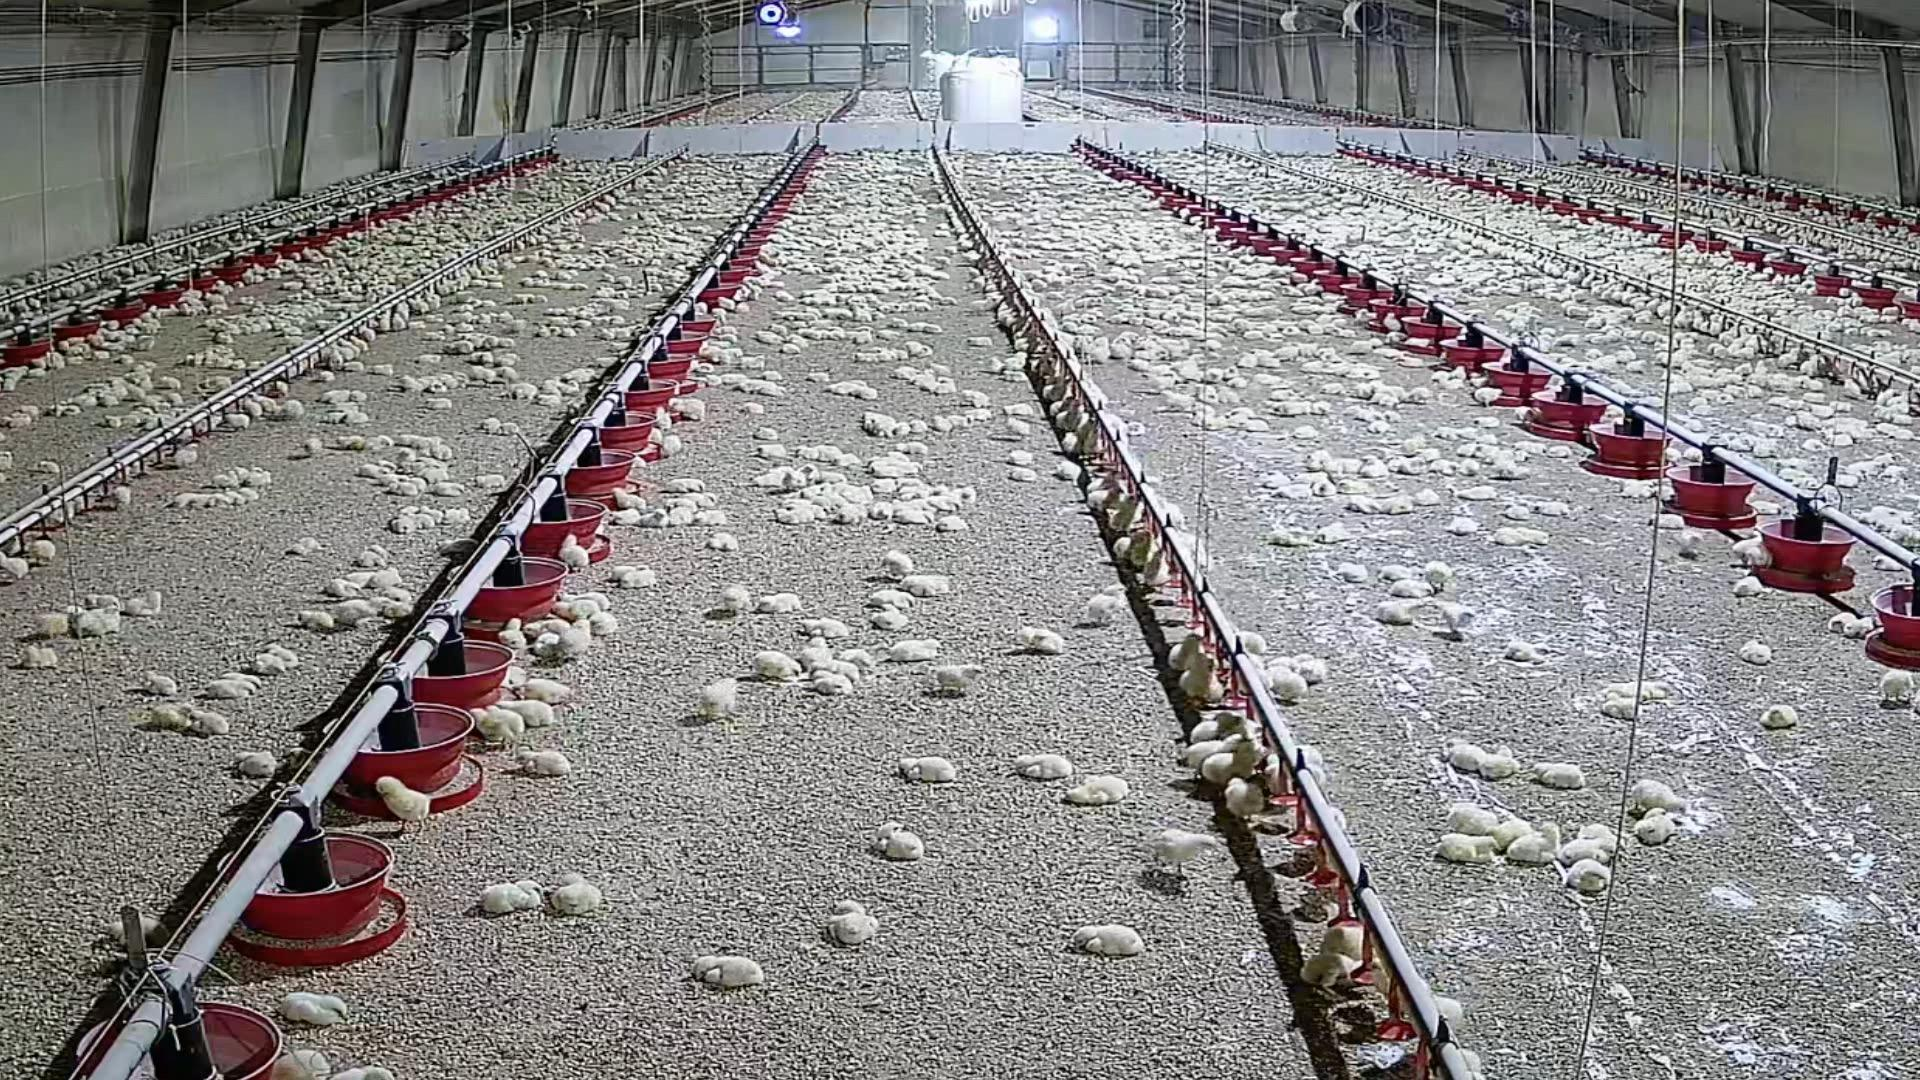poussin: (375, 770, 434, 832), (1146, 829, 1217, 873), (281, 988, 357, 1026), (1176, 659, 1229, 709), (1179, 733, 1247, 771), (823, 899, 877, 947), (1205, 737, 1265, 779), (1507, 823, 1567, 865), (1327, 918, 1386, 959), (1069, 924, 1146, 956), (690, 955, 765, 986), (1222, 775, 1266, 829), (1630, 774, 1691, 812), (483, 877, 545, 913), (1304, 952, 1358, 992), (553, 873, 603, 914), (1412, 989, 1466, 1026), (266, 1051, 335, 1080), (1259, 744, 1331, 771), (471, 707, 522, 745), (1265, 764, 1329, 794), (874, 824, 924, 862), (1065, 777, 1134, 804), (1013, 752, 1072, 782), (1439, 833, 1498, 862), (899, 753, 956, 782), (1876, 665, 1919, 703), (1526, 764, 1586, 790), (703, 676, 741, 717), (924, 669, 986, 694), (1191, 713, 1255, 737), (516, 752, 574, 778), (1451, 799, 1503, 828), (1089, 584, 1127, 624), (748, 646, 799, 675), (1552, 843, 1622, 864), (497, 699, 559, 723), (1484, 744, 1526, 778), (109, 923, 170, 947), (1019, 622, 1068, 651), (807, 670, 857, 698), (1374, 597, 1424, 625), (1640, 808, 1677, 845), (1222, 625, 1274, 651), (517, 678, 580, 699), (1490, 814, 1530, 847), (1605, 691, 1644, 724), (562, 621, 593, 662), (330, 1063, 405, 1080), (289, 745, 335, 773), (1171, 630, 1200, 674), (78, 608, 123, 636), (1447, 738, 1484, 771), (140, 666, 179, 696), (326, 603, 386, 622), (295, 608, 338, 636), (1265, 669, 1303, 699), (22, 644, 66, 670), (798, 636, 833, 666), (876, 603, 913, 632), (1572, 866, 1609, 895), (603, 560, 647, 584), (34, 612, 73, 640), (802, 618, 852, 640), (889, 640, 945, 658), (1035, 372, 1069, 402), (1763, 703, 1800, 731), (810, 661, 861, 680), (262, 644, 301, 670), (563, 533, 589, 571), (550, 603, 597, 624), (758, 592, 800, 616), (1509, 644, 1556, 665), (21, 535, 55, 564), (204, 682, 255, 702), (559, 588, 612, 607), (236, 752, 277, 775), (716, 587, 754, 612), (190, 711, 229, 735), (621, 568, 657, 595), (1443, 607, 1478, 633), (1375, 562, 1429, 579), (903, 578, 953, 596), (868, 588, 914, 608), (1386, 582, 1439, 599), (1737, 531, 1763, 566), (1279, 654, 1336, 670), (1735, 640, 1775, 662), (219, 673, 266, 691), (1335, 560, 1371, 584), (127, 592, 160, 618), (1431, 560, 1457, 593), (1468, 386, 1509, 407), (505, 612, 527, 650), (150, 705, 193, 725), (1577, 823, 1619, 843), (1044, 396, 1079, 419), (608, 487, 646, 508), (1671, 534, 1700, 562), (1065, 423, 1096, 450), (252, 654, 287, 676), (0, 554, 33, 578), (1085, 487, 1122, 508), (840, 650, 881, 669), (1320, 521, 1352, 545), (469, 469, 513, 487), (1278, 529, 1315, 549), (1846, 617, 1883, 637), (998, 415, 1030, 438), (1406, 489, 1444, 508), (1873, 555, 1911, 574), (1647, 513, 1688, 530), (884, 554, 910, 580), (531, 633, 559, 658), (324, 583, 364, 600), (1825, 612, 1857, 633), (593, 611, 620, 636), (1385, 497, 1420, 516), (1735, 576, 1763, 600), (704, 530, 737, 550), (524, 618, 568, 633), (794, 446, 839, 460), (284, 534, 320, 551), (603, 509, 640, 526), (836, 505, 868, 525), (1055, 405, 1081, 429), (684, 495, 720, 512), (1490, 527, 1523, 546), (1449, 485, 1495, 498), (666, 481, 707, 496), (274, 398, 309, 415), (372, 567, 404, 585), (666, 497, 698, 516), (1519, 530, 1551, 549), (1395, 355, 1432, 371), (895, 442, 928, 459), (1534, 501, 1567, 518), (1056, 458, 1080, 481), (252, 389, 278, 410), (444, 506, 471, 527), (771, 509, 800, 527), (931, 520, 968, 534), (1350, 498, 1379, 517), (113, 485, 137, 508), (665, 434, 686, 459), (380, 588, 413, 604), (642, 509, 669, 529), (1007, 468, 1040, 484), (752, 471, 782, 488), (961, 389, 992, 406), (893, 512, 931, 525), (794, 460, 816, 483), (400, 372, 423, 393), (1663, 446, 1687, 467), (1451, 520, 1480, 537), (248, 465, 274, 484), (418, 505, 444, 524), (174, 444, 202, 462), (1501, 501, 1528, 518), (756, 446, 791, 459), (1291, 430, 1327, 443), (1750, 501, 1788, 513), (360, 462, 386, 479), (222, 413, 252, 427), (667, 509, 691, 527), (754, 423, 782, 439), (1278, 487, 1315, 498), (1683, 446, 1706, 464), (356, 555, 389, 568), (431, 481, 464, 495), (787, 505, 812, 522), (211, 472, 240, 487), (872, 464, 901, 479), (475, 365, 496, 385), (699, 510, 725, 526), (1010, 446, 1036, 462), (1655, 480, 1677, 498), (1455, 427, 1482, 442), (336, 342, 367, 355), (413, 513, 434, 531), (782, 473, 803, 492), (1001, 401, 1038, 411), (417, 353, 446, 367), (1432, 426, 1458, 440), (757, 369, 785, 382), (1476, 414, 1503, 427), (425, 397, 450, 411), (347, 336, 372, 351), (513, 385, 538, 400), (244, 396, 261, 417), (306, 436, 323, 458), (822, 472, 852, 484), (389, 483, 415, 496), (1257, 373, 1283, 386), (964, 336, 993, 348), (390, 516, 409, 534), (500, 367, 521, 382), (372, 364, 397, 377), (336, 436, 364, 448), (396, 434, 423, 446), (832, 455, 862, 465), (810, 369, 833, 382), (322, 392, 351, 402), (274, 382, 295, 397), (364, 542, 393, 553), (1320, 382, 1345, 394), (741, 404, 769, 414), (1377, 345, 1404, 356), (910, 418, 930, 433), (932, 418, 952, 433), (334, 345, 357, 357), (1382, 414, 1406, 426), (371, 438, 392, 451), (955, 417, 975, 430), (1369, 425, 1396, 434), (874, 501, 889, 518), (894, 419, 911, 434), (1316, 480, 1329, 498), (343, 413, 368, 422), (480, 418, 497, 431), (353, 389, 369, 402), (319, 372, 335, 384), (343, 363, 363, 372), (502, 426, 517, 438)
